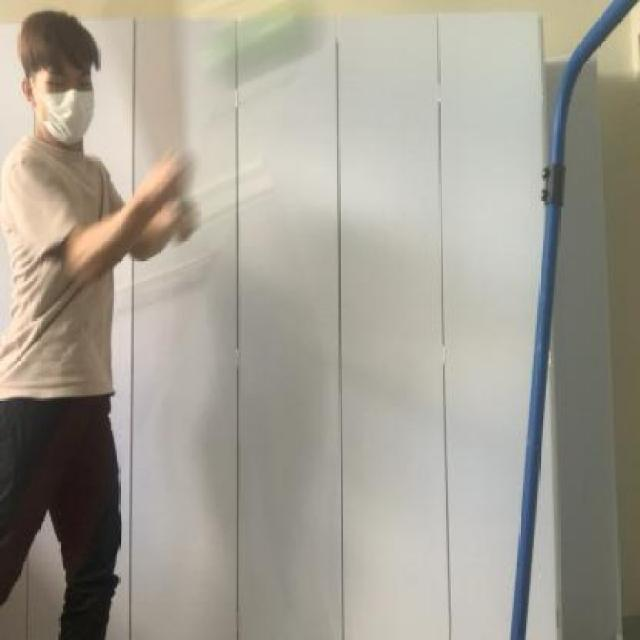baseball: (206, 0, 332, 100)
